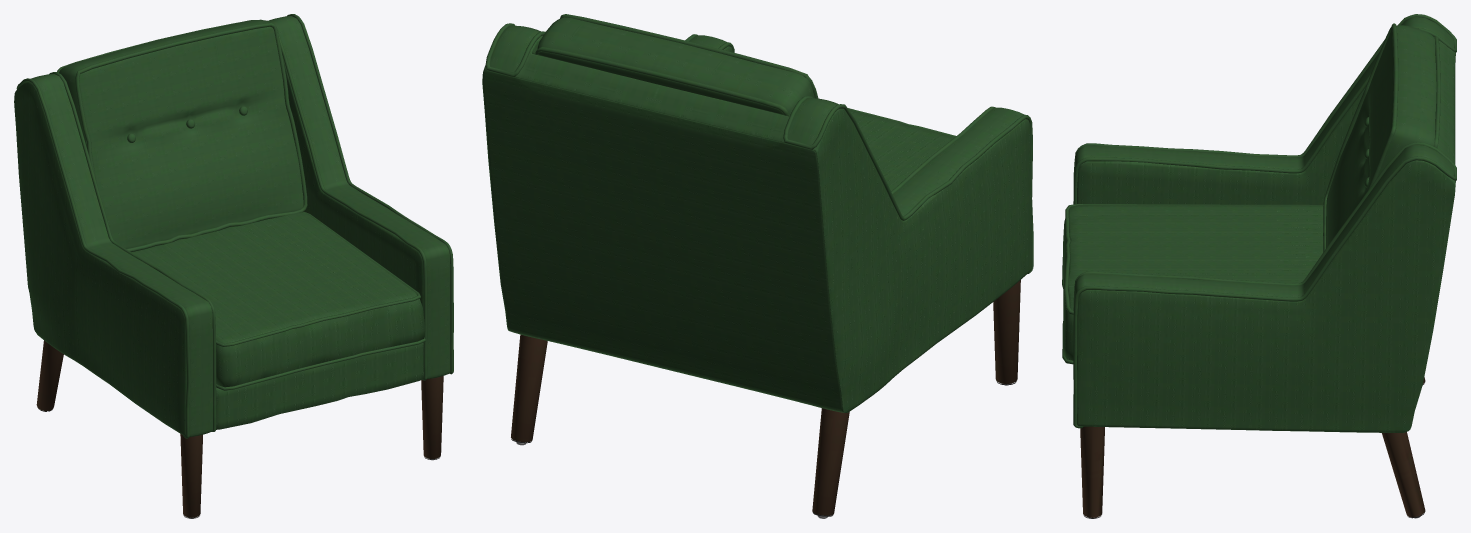
Rendered from abo-B073G6GTKL.glb.
3 renders of one model, left to right at view 1: azimuth 30°, elevation 25°; view 2: azimuth 150°, elevation 25°; view 3: azimuth 270°, elevation 25°, orthographic. The views are drawn at different scales.
Bounding box in the file's own units: 0.663 × 0.792 × 0.743.
1 material, 1 textured.
